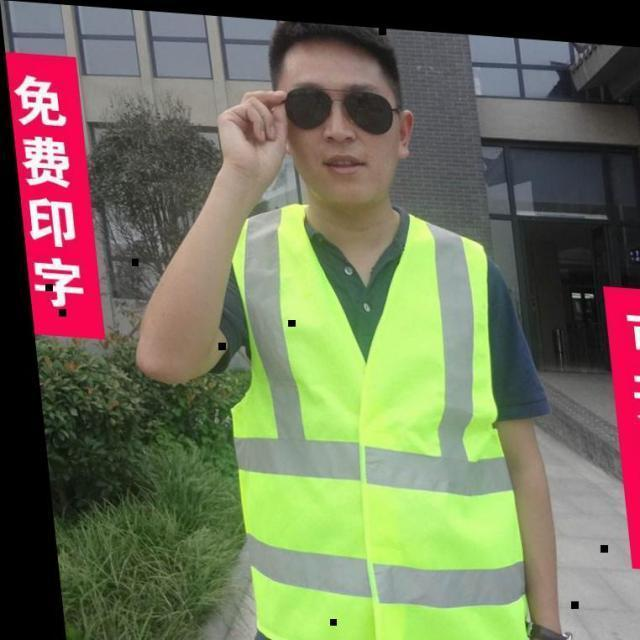safety_helmet: (133, 197, 535, 640)
